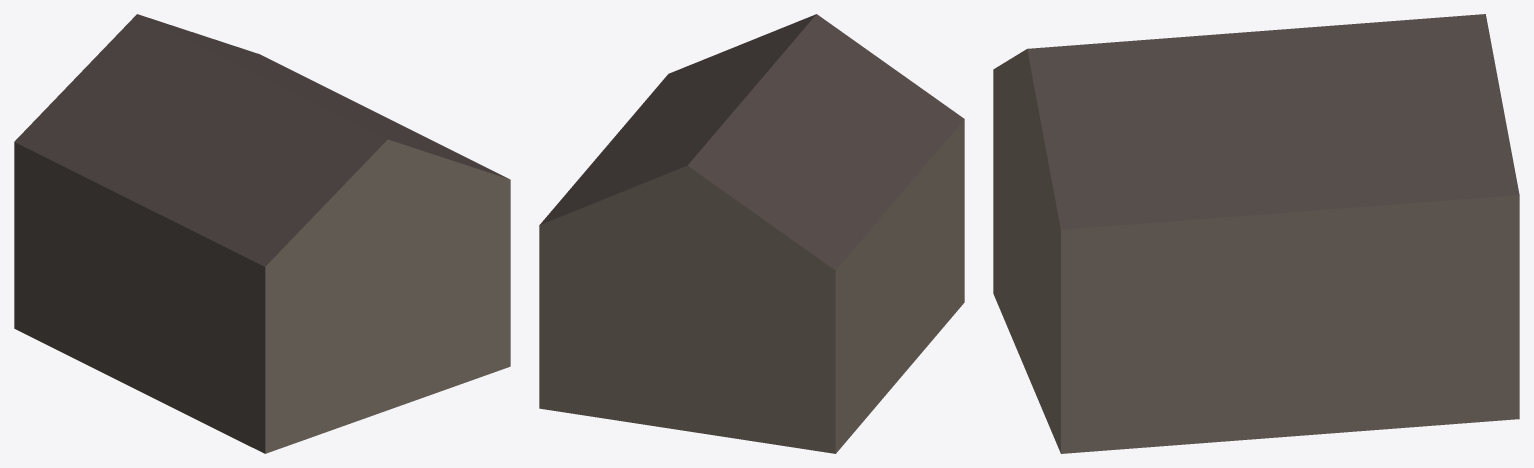
3 renders of one model, left to right at view 1: azimuth 30°, elevation 25°; view 2: azimuth 150°, elevation 25°; view 3: azimuth 270°, elevation 25°, orthographic. The views are drawn at different scales.
Parts seen in each view (by area): view 1: HP-w372180437; view 2: HP-w372180437; view 3: HP-w372180437.
Part boxes in pixels (x1,y1,x2,y2): HP-w372180437: [14, 14, 510, 453]; HP-w372180437: [539, 14, 964, 453]; HP-w372180437: [993, 14, 1519, 453].
Size of the model in its own units: 11.22 by 8.7 by 12.77.
